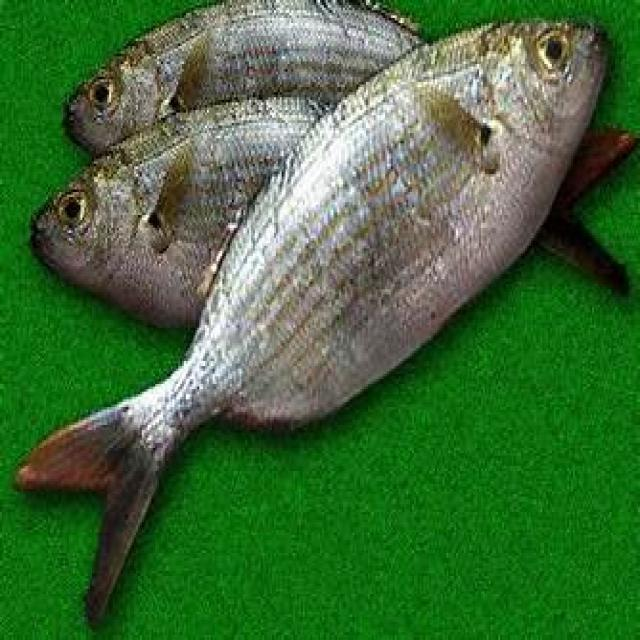Healthy Fish: (24, 9, 634, 618)
